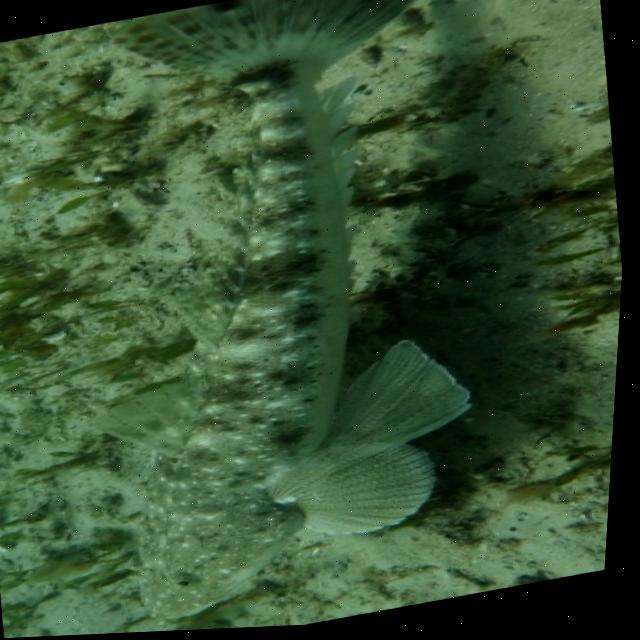Flathead: (7, 0, 553, 639)
